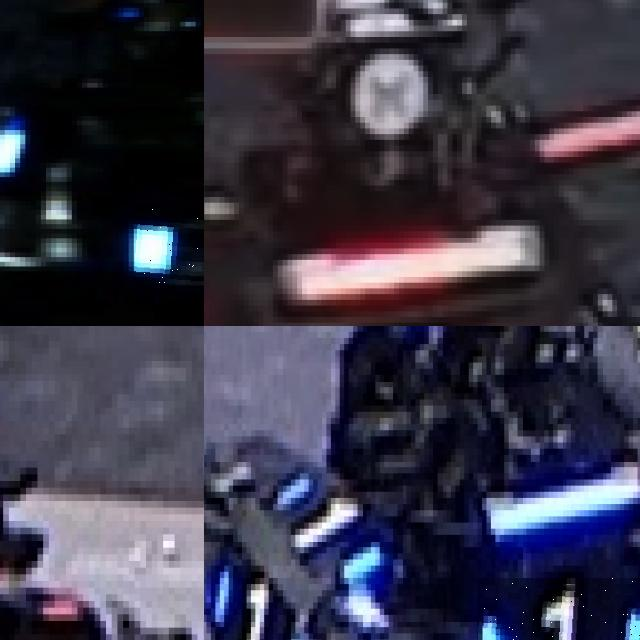B1: (273, 473, 384, 584), (477, 577, 640, 640), (206, 559, 299, 640)
Bs: (134, 205, 204, 285)
